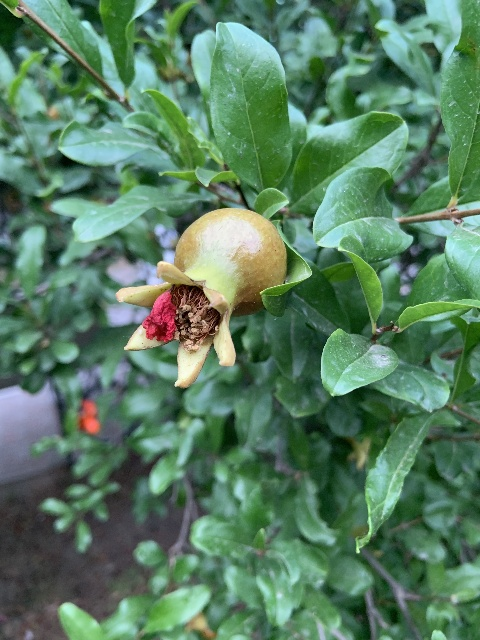early-fruit: (116, 207, 286, 388), (184, 613, 217, 639)
